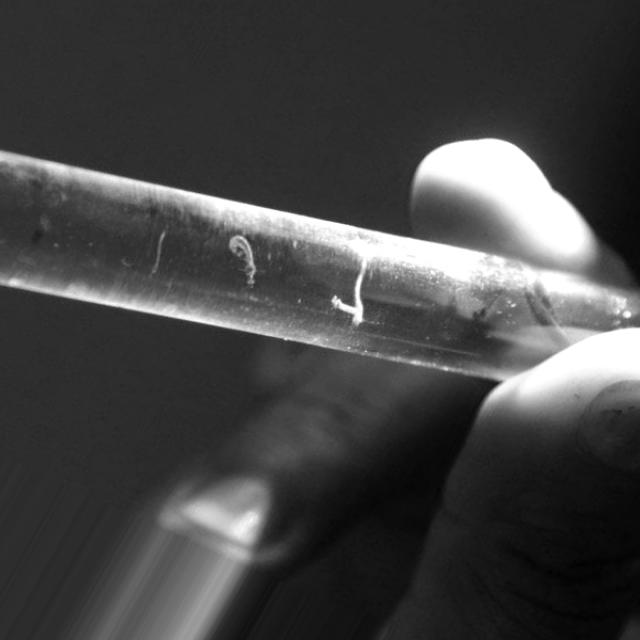larvas: (230, 234, 258, 290), (475, 290, 502, 322), (334, 297, 360, 322), (152, 228, 166, 274), (356, 262, 366, 310), (118, 256, 137, 270)
